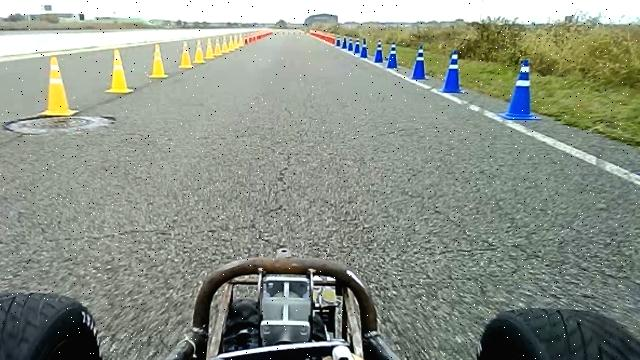blue cone: (498, 58, 542, 120), (439, 49, 467, 94), (410, 44, 429, 80), (386, 41, 399, 69), (373, 39, 384, 63), (360, 37, 368, 58), (354, 37, 362, 55), (347, 37, 354, 52), (341, 36, 348, 50), (336, 34, 342, 47)
yellow cone: (39, 56, 80, 116), (105, 48, 134, 94), (148, 43, 169, 78), (179, 40, 194, 68), (193, 39, 206, 64), (204, 37, 216, 60), (213, 38, 223, 56), (220, 37, 230, 54)
